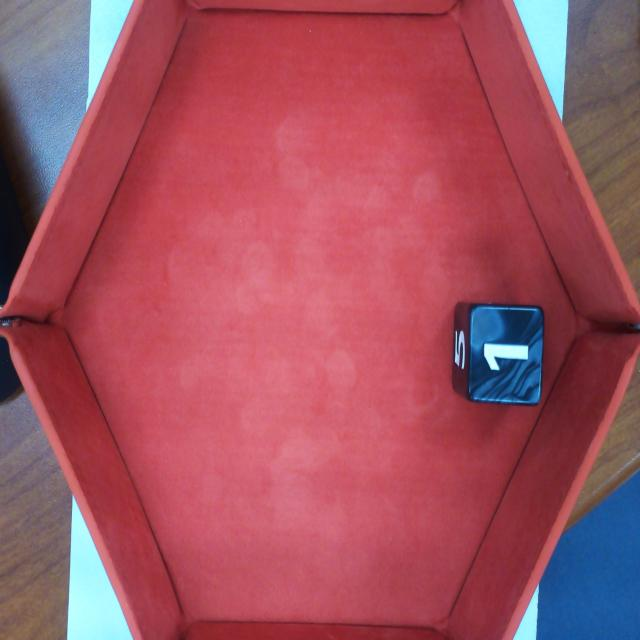dice: (471, 302, 547, 402)
